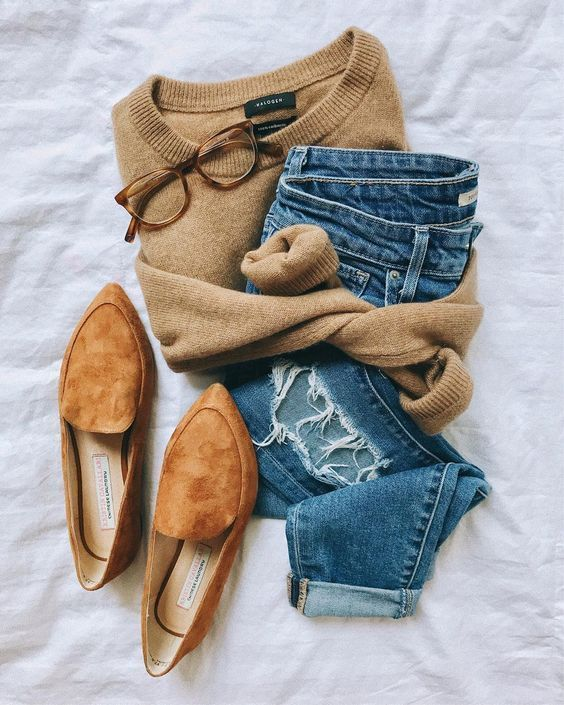gamuza: (60, 282, 260, 679)
